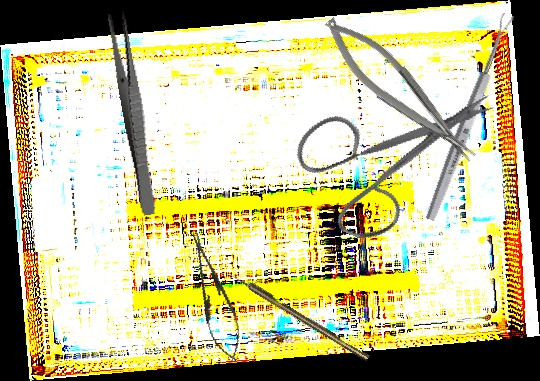Dressing Forceps: (105, 10, 162, 217)
Hook Surgical: (228, 269, 370, 363)
Iris Scissors: (273, 33, 500, 268)
Needle Holder: (315, 5, 483, 177), (180, 228, 250, 366)
Surgical Spoon: (423, 11, 516, 223)
